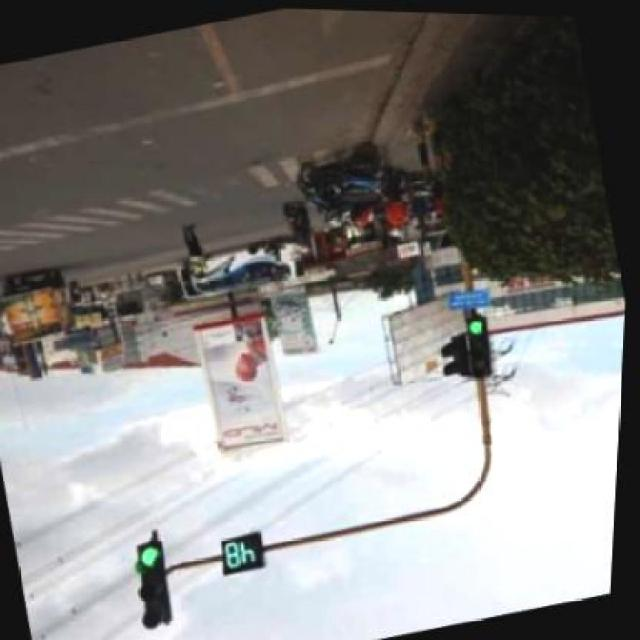green_light: (133, 536, 184, 627), (463, 305, 505, 378)
